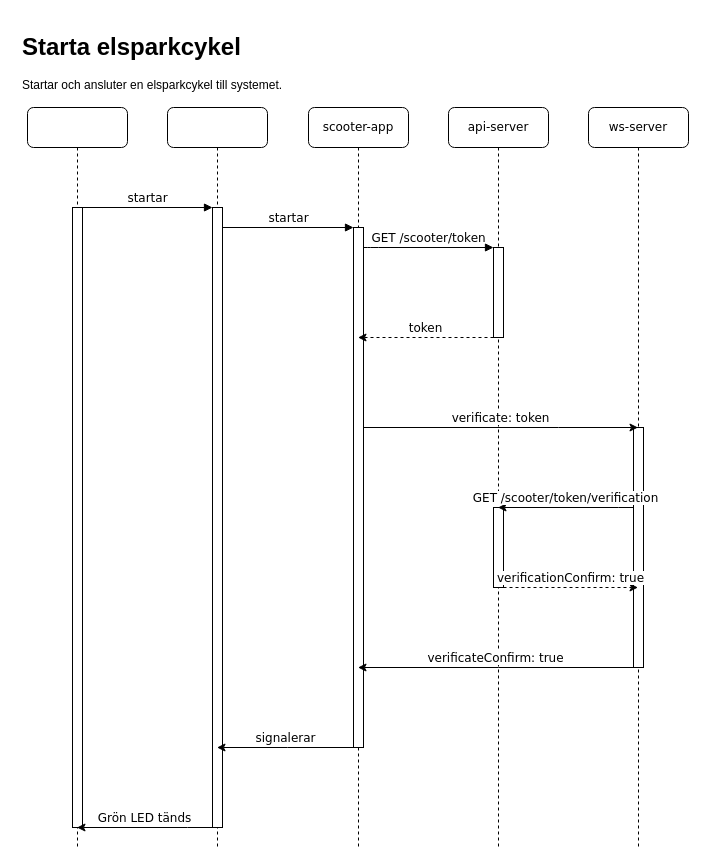
Image size: 706x865. Some labels were removed from this diagram. The box of each missing label's shape, as (x1, y1, x2, y2) in pixels:
Elsparkcykel: (166, 106, 268, 848)
Servicepersonal: (26, 106, 128, 848)
